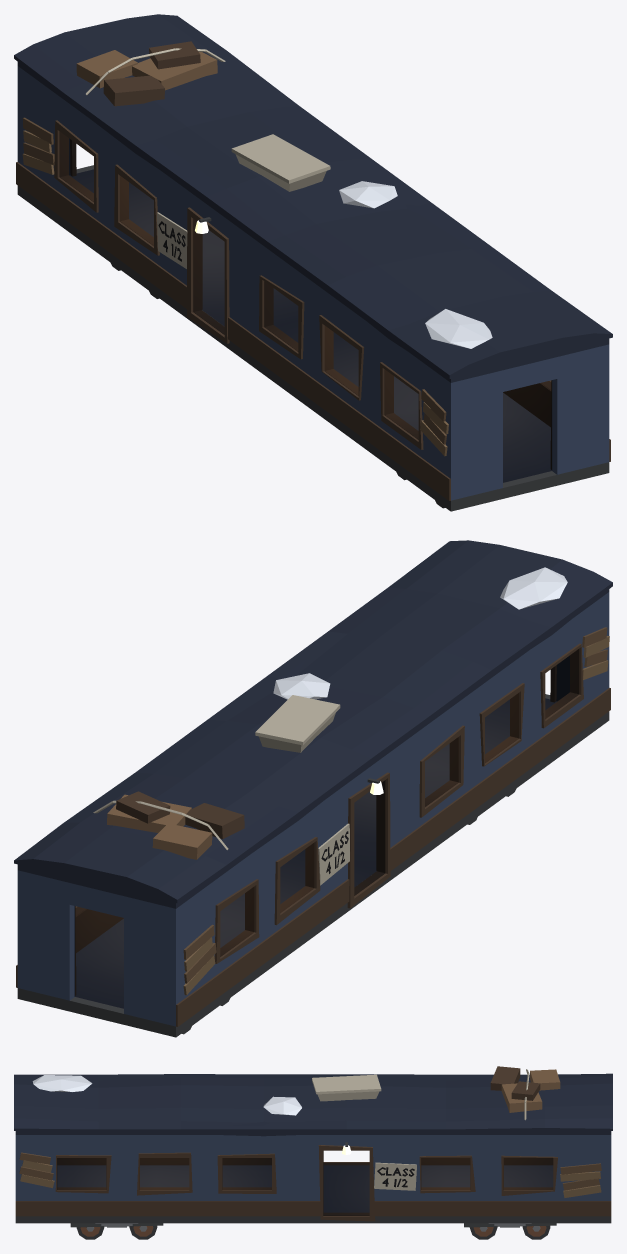
The model's file is car_coach.glb.
3 views of the same model, one above another, from view 1: azimuth 30°, elevation 25°; view 2: azimuth 150°, elevation 25°; view 3: azimuth 270°, elevation 25° (orthographic). The views are drawn at different scales.
Parts seen in each view (by area): view 1: Exterior, Interior; view 2: Exterior, Interior; view 3: Exterior, Interior.
Part boxes in pixels (box(x1,y1,x2,y2)): Exterior: box(14, 14, 612, 511); Interior: box(59, 131, 552, 482); Exterior: box(14, 540, 612, 1037); Interior: box(74, 649, 579, 1008); Exterior: box(14, 1066, 612, 1239); Interior: box(57, 1151, 553, 1215).
Size of the model in its own units: 4.49 by 4.87 by 18.1.
